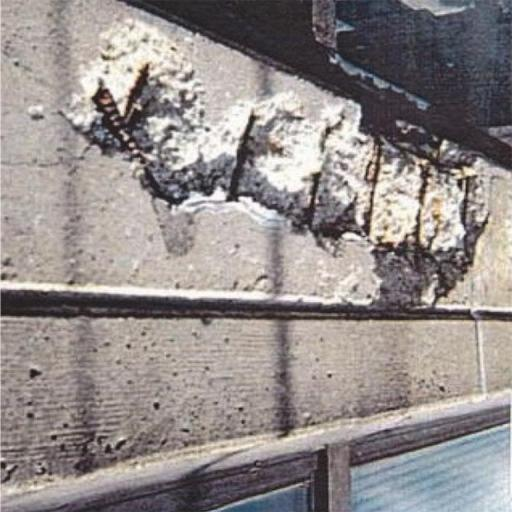spalling: (70, 21, 493, 314)
